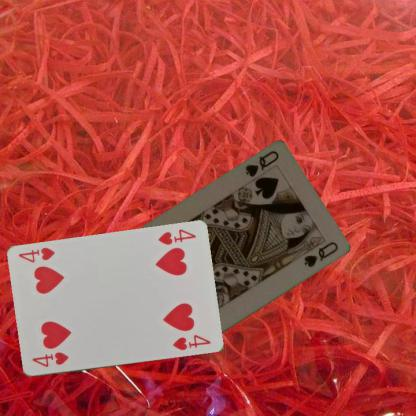4h: (155, 226, 197, 247), (29, 350, 70, 368)
Qs: (242, 148, 280, 178)
